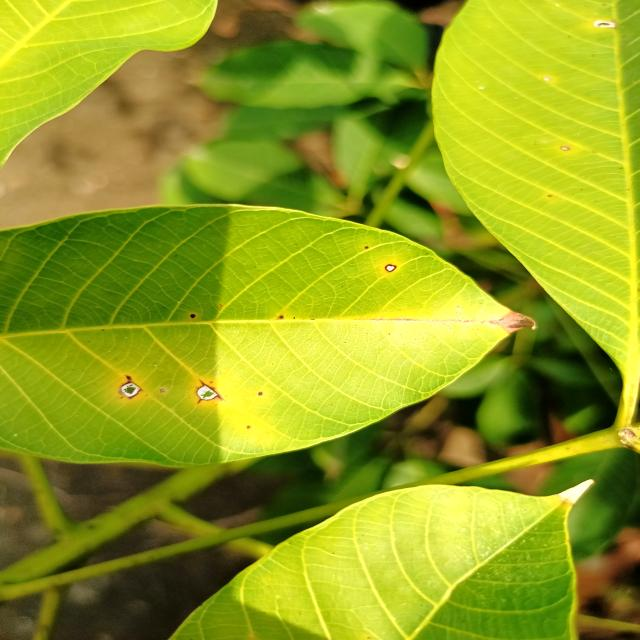Colletotrichum: (119, 382, 141, 398), (385, 264, 397, 272), (190, 314, 196, 318), (258, 392, 262, 395)
Leaf-Blight: (559, 478, 593, 504), (500, 312, 536, 334)
